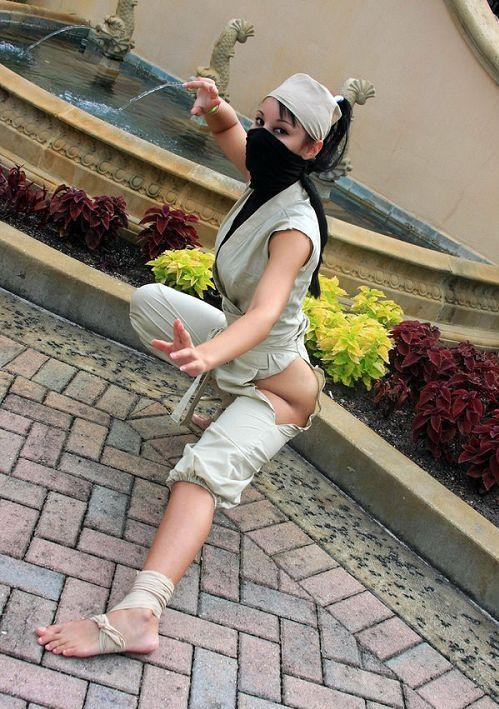OK: (243, 101, 320, 178)
